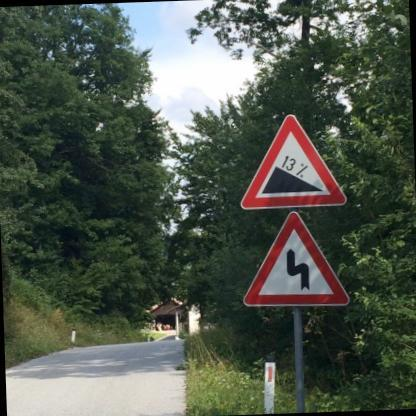road_sign: (243, 211, 349, 306), (241, 115, 346, 209)
